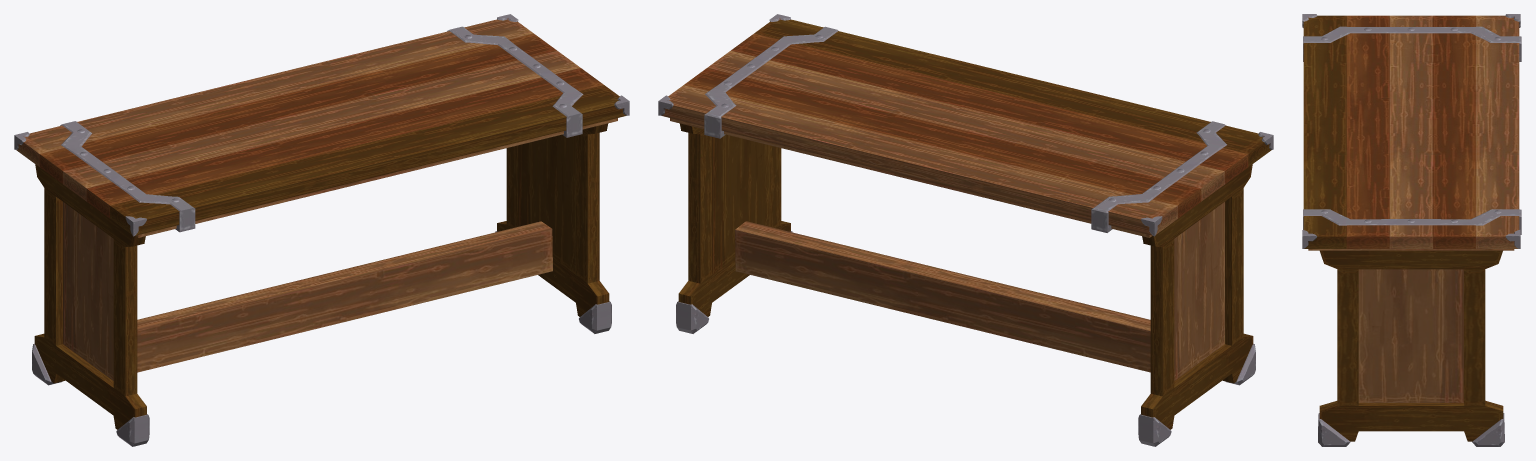
File: Desk.gltf
3 views of the same model, side by side, from view 1: azimuth 30°, elevation 25°; view 2: azimuth 150°, elevation 25°; view 3: azimuth 270°, elevation 25° (orthographic). The views are drawn at different scales.
Visible parts, largest first — view 1: Desk; view 2: Desk; view 3: Desk.
Part boxes in pixels (x1,y1,x2,y2): Desk: (14,14,629,446); Desk: (658,14,1273,446); Desk: (1302,14,1521,446).
Bounding box in the file's own units: 1.86 × 0.8438 × 0.7789.
Materials: 2 (2 with a texture image).
